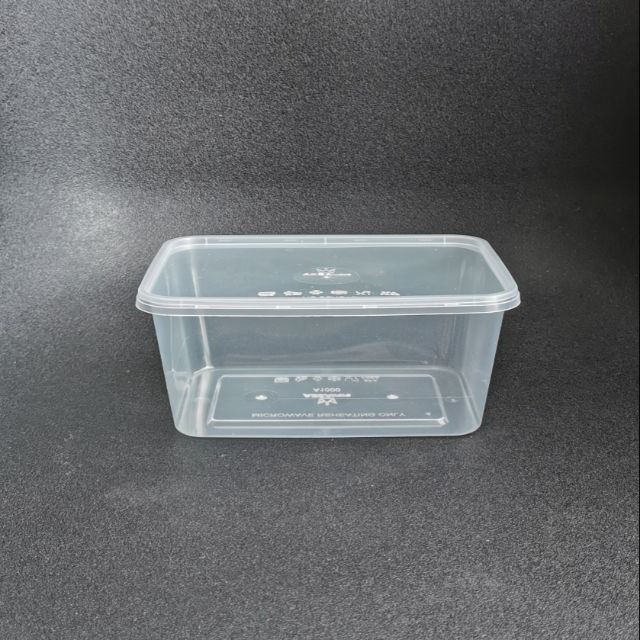plastic: (136, 232, 523, 443)
